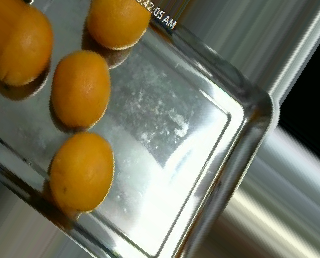Orange: (49, 131, 114, 211), (50, 48, 110, 126)
